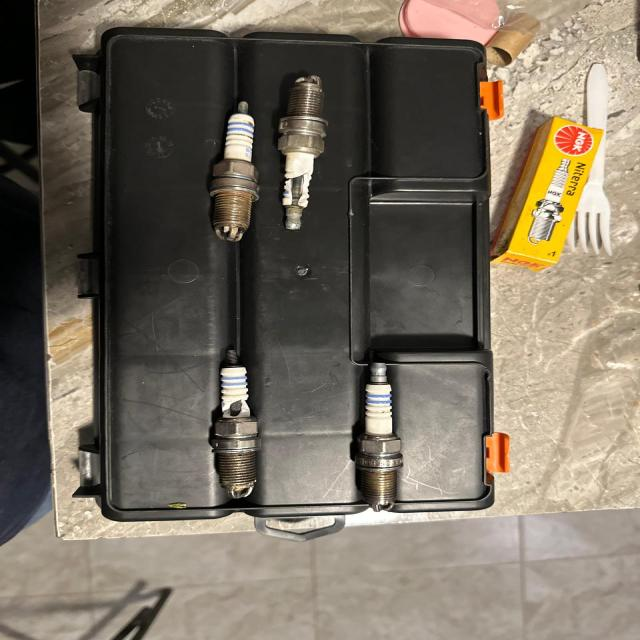damaged_spark-plug: (206, 348, 267, 502), (275, 64, 331, 228)
spark-plug: (348, 358, 410, 512), (201, 96, 258, 244)
